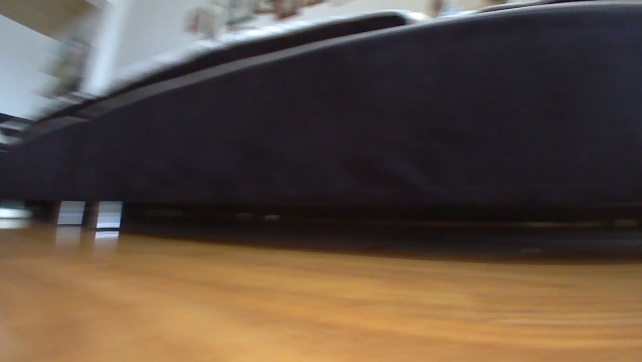sofe1: (2, 0, 641, 224)
